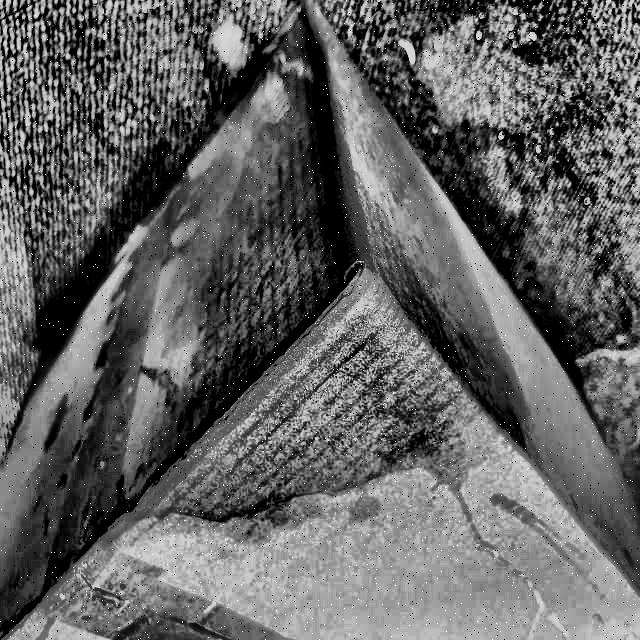box: (0, 0, 640, 640)
wet: (122, 3, 492, 510)
